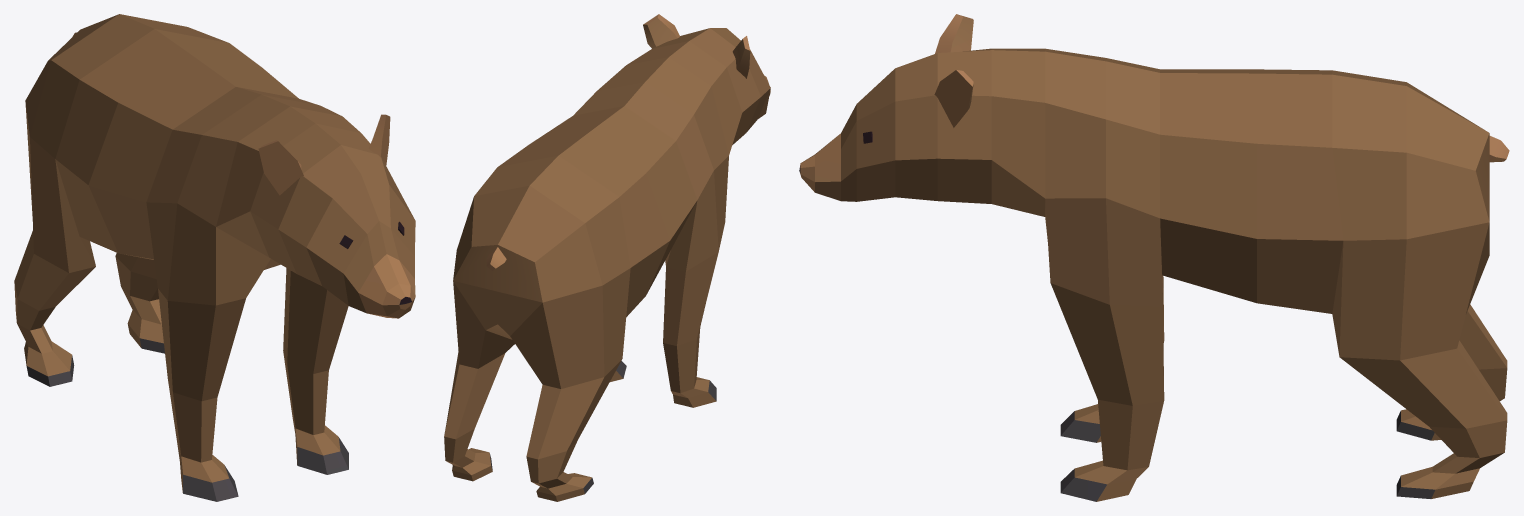
Rendered from bear.glb.
The picture shows the model from 3 angles, left to right: view 1: azimuth 30°, elevation 25°; view 2: azimuth 150°, elevation 25°; view 3: azimuth 270°, elevation 25°; orthographic projection. The views are drawn at different scales.
Visible parts, largest first — view 1: Geo_Bear; view 2: Geo_Bear; view 3: Geo_Bear.
Part boxes in pixels (<box>): Geo_Bear: <box>14,14,415,501</box>; Geo_Bear: <box>444,14,770,501</box>; Geo_Bear: <box>799,14,1509,501</box>.
Size of the model in its own units: 75.62 by 140 by 216.
1 material, 1 textured.
